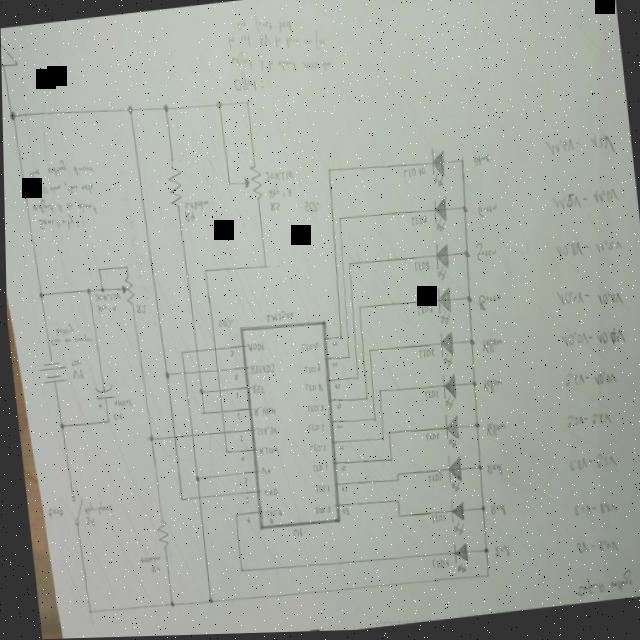capacitor: (90, 383, 113, 411)
crossover: (218, 428, 225, 437), (168, 433, 175, 441), (178, 370, 185, 377), (190, 348, 197, 355), (213, 388, 220, 395), (193, 495, 200, 502), (186, 431, 192, 439), (216, 409, 222, 417), (193, 369, 199, 375), (209, 347, 215, 353), (212, 369, 218, 375)
diode: (430, 243, 449, 285), (442, 454, 461, 495), (439, 414, 458, 453), (427, 149, 445, 190), (433, 288, 451, 329), (434, 332, 452, 372), (429, 197, 447, 236), (437, 374, 455, 413), (445, 499, 462, 538), (448, 543, 466, 576)
ground: (1, 40, 18, 71)
junction: (5, 110, 15, 122), (212, 100, 221, 112), (460, 251, 468, 262), (124, 105, 132, 116), (160, 370, 168, 381), (94, 285, 102, 294), (160, 104, 167, 114), (470, 423, 477, 433), (458, 207, 465, 217), (144, 434, 151, 443), (465, 340, 472, 349), (467, 382, 474, 391), (475, 506, 482, 515), (463, 297, 470, 306), (478, 549, 485, 557), (55, 422, 62, 430), (164, 601, 171, 609), (472, 466, 479, 474), (190, 476, 197, 484), (82, 288, 89, 296), (101, 418, 108, 426), (194, 388, 200, 397), (203, 599, 210, 606), (34, 292, 41, 299), (456, 159, 463, 166), (195, 410, 202, 417), (324, 168, 330, 175), (353, 307, 360, 313), (199, 268, 205, 275), (360, 397, 366, 404), (219, 449, 226, 455), (334, 216, 340, 223), (368, 418, 374, 425), (242, 99, 248, 106), (224, 182, 230, 188), (480, 575, 486, 581), (259, 265, 265, 271), (93, 267, 99, 273), (343, 263, 349, 269), (234, 568, 240, 574), (363, 349, 369, 355), (121, 264, 127, 270), (383, 432, 389, 438), (373, 389, 379, 395), (335, 336, 341, 342), (342, 356, 348, 362), (351, 377, 357, 383), (391, 500, 396, 507), (175, 497, 180, 503), (83, 609, 88, 615), (393, 515, 398, 521), (229, 513, 234, 519), (376, 438, 381, 444), (176, 350, 181, 356), (386, 459, 390, 464), (391, 474, 396, 478), (393, 480, 396, 485)
resistor: (162, 164, 183, 209), (239, 165, 262, 204), (116, 274, 133, 307), (151, 518, 167, 551)
source: (34, 357, 66, 387)
switch: (65, 493, 82, 529)
text: (228, 42, 330, 84), (224, 25, 325, 63), (542, 135, 615, 163), (28, 192, 95, 222), (553, 327, 623, 355), (548, 188, 617, 216), (569, 571, 632, 601), (551, 288, 621, 315), (24, 155, 93, 182), (234, 8, 290, 40), (550, 239, 621, 263), (26, 176, 92, 201), (560, 370, 614, 395), (562, 452, 615, 477), (561, 411, 609, 435), (567, 501, 614, 525), (570, 538, 615, 561), (34, 212, 77, 234), (230, 69, 262, 97), (46, 332, 91, 347), (261, 168, 292, 186), (471, 243, 495, 265), (477, 338, 501, 358), (80, 499, 108, 516), (474, 295, 499, 313), (265, 184, 291, 201), (263, 310, 292, 325), (245, 362, 272, 378), (181, 198, 207, 214), (481, 423, 504, 441), (478, 379, 501, 397), (252, 424, 275, 441), (473, 205, 496, 221), (249, 404, 272, 420), (399, 168, 424, 182), (92, 291, 119, 303), (253, 445, 276, 459), (481, 464, 501, 480), (52, 321, 71, 337), (470, 155, 490, 170), (298, 364, 319, 378), (489, 545, 506, 562), (42, 505, 60, 521), (135, 553, 157, 566), (243, 341, 263, 355), (302, 403, 322, 417), (304, 443, 324, 457), (426, 559, 445, 573), (109, 397, 129, 410), (485, 504, 502, 519), (261, 508, 278, 523), (414, 348, 432, 362), (93, 303, 114, 315), (309, 505, 328, 518), (298, 342, 317, 355), (300, 384, 320, 396), (410, 261, 427, 275), (407, 216, 424, 230), (413, 305, 430, 319), (213, 317, 231, 330), (300, 202, 317, 215), (303, 423, 321, 435), (422, 473, 440, 485), (258, 487, 274, 500), (311, 483, 327, 496), (426, 515, 443, 527), (248, 383, 263, 396), (68, 367, 81, 381), (420, 391, 435, 403), (308, 464, 324, 475), (181, 210, 194, 223), (254, 467, 268, 479), (420, 434, 435, 445), (132, 303, 144, 316), (267, 201, 279, 214), (287, 529, 298, 542), (109, 411, 120, 423), (146, 564, 157, 575), (336, 507, 346, 518), (81, 516, 91, 527), (66, 358, 78, 367), (326, 361, 336, 370), (327, 341, 336, 350), (237, 477, 245, 486), (336, 486, 344, 495), (336, 465, 344, 474), (334, 444, 342, 453), (332, 423, 340, 432), (331, 403, 339, 412), (329, 383, 337, 392), (229, 392, 237, 401), (241, 516, 247, 527), (236, 455, 243, 464), (234, 435, 241, 444), (231, 413, 238, 422), (229, 374, 236, 383), (225, 350, 232, 359), (240, 496, 246, 506)
